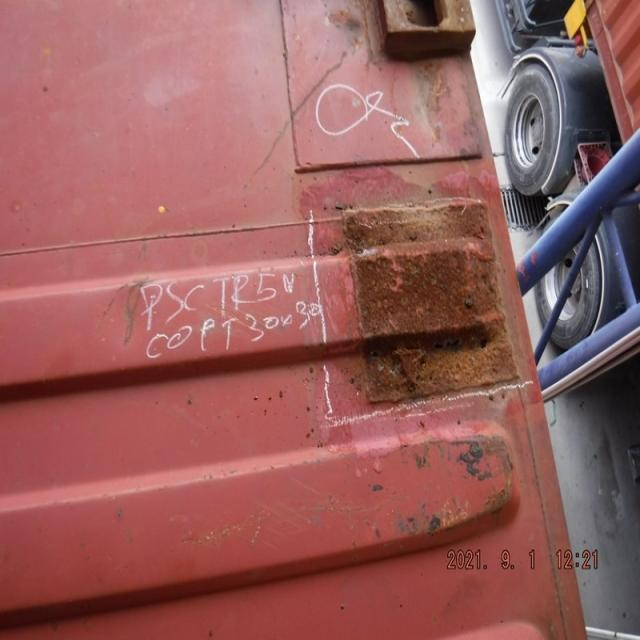hole: (346, 198, 525, 404)
